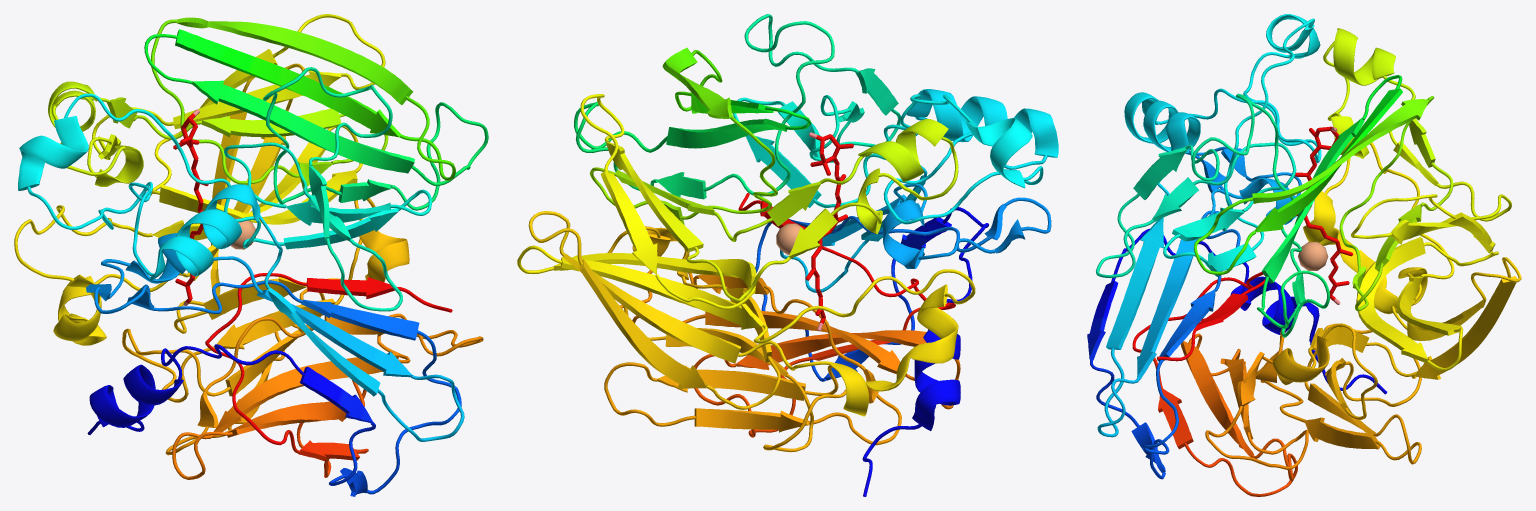
Rendered from 2biw-pymol-cartoon.glb.
3 views of the same model, side by side, from view 1: azimuth 30°, elevation 25°; view 2: azimuth 150°, elevation 25°; view 3: azimuth 270°, elevation 25° (orthographic). The views are drawn at different scales.
Visible parts, largest first — view 1: node-geom36, node-geom35, node-geom37; view 2: node-geom36, node-geom37, node-geom35; view 3: node-geom36, node-geom35, node-geom37, node-geom34.
Part boxes in pixels (<box>): node-geom36: <box>14,14,488,345</box>; node-geom35: <box>18,76,464,496</box>; node-geom37: <box>122,63,483,479</box>; node-geom36: <box>517,14,975,416</box>; node-geom37: <box>528,193,960,452</box>; node-geom35: <box>733,18,1058,496</box>; node-geom36: <box>1185,28,1511,370</box>; node-geom35: <box>1087,14,1387,479</box>; node-geom37: <box>1132,257,1521,496</box>; node-geom34: <box>1298,242,1328,270</box>.
Bounding box in the file's own units: 58.36 × 50.24 × 51.19.
